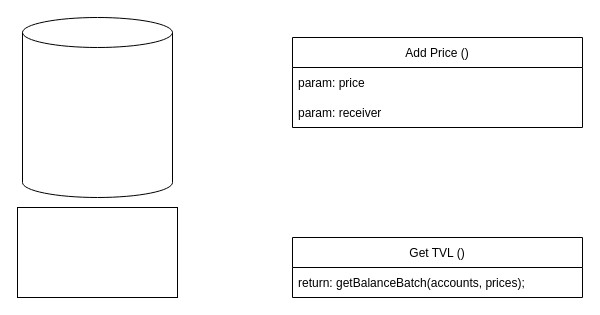
Image size: 600x315. Some labels were removed from this diagram. The shapes that lost their labels are listed below. From the top down, each one's centre as x and y in pixels, then its label:
point (97, 107): VAULT
point (97, 252): Contract : variables ERC20 asset;
